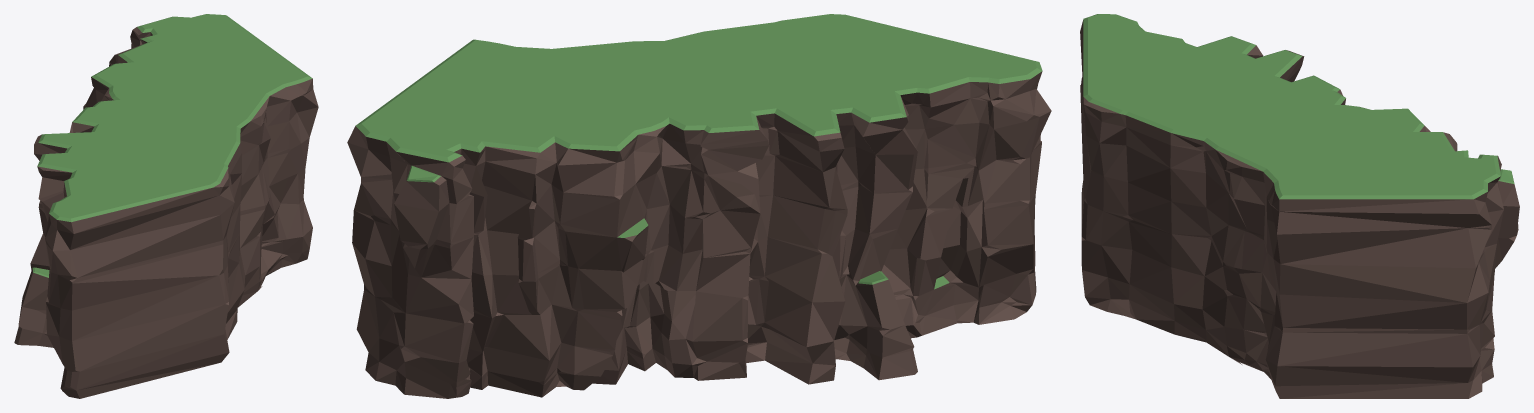
The model's file is Cliff H 6.fbx.
The picture shows the model from 3 angles, left to right: view 1: azimuth 30°, elevation 25°; view 2: azimuth 150°, elevation 25°; view 3: azimuth 270°, elevation 25°; orthographic projection. The views are drawn at different scales.
Parts seen in each view (by area): view 1: Cliff 18; view 2: Cliff 18; view 3: Cliff 18.
Part boxes in pixels (x1,y1,x2,y2): Cliff 18: [14, 14, 318, 398]; Cliff 18: [347, 14, 1051, 398]; Cliff 18: [1080, 14, 1519, 398].
Bounding box in the file's own units: 405 × 202 × 394.
